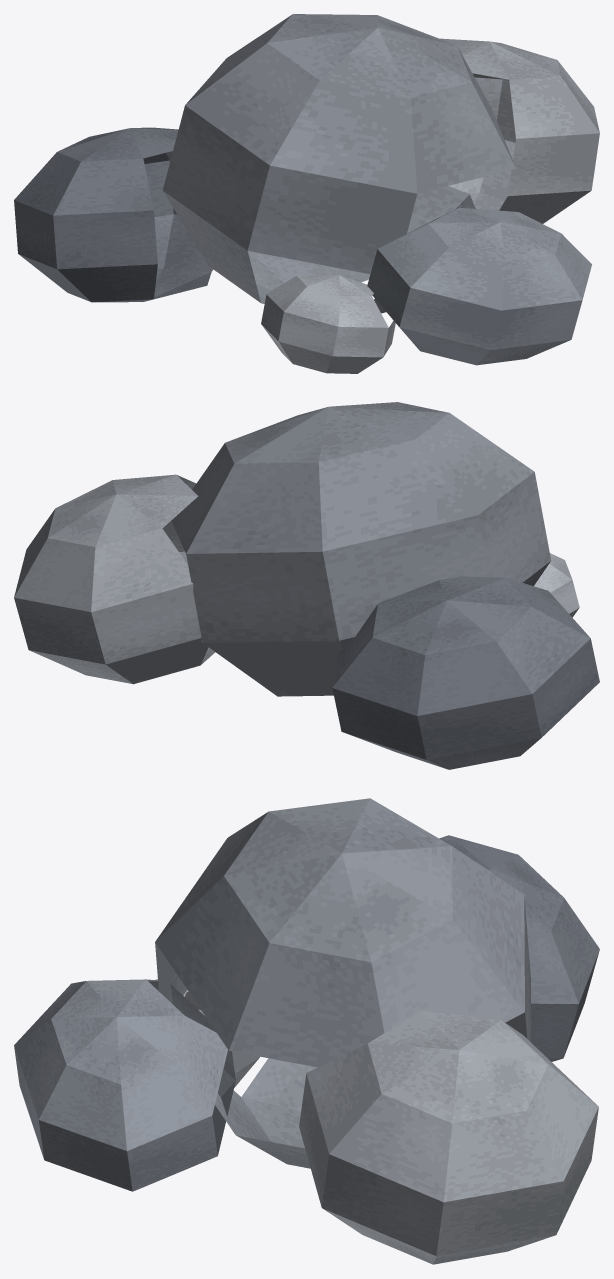
Rendered from prop_rock.glb.
3 views of the same model, one above another, from view 1: azimuth 30°, elevation 25°; view 2: azimuth 150°, elevation 25°; view 3: azimuth 270°, elevation 25° (orthographic). The views are drawn at different scales.
Visible parts, largest first — view 1: prop_rock; view 2: prop_rock; view 3: prop_rock.
Part boxes in pixels (bbox=[...]): prop_rock: bbox=[14, 14, 599, 373]; prop_rock: bbox=[14, 402, 599, 769]; prop_rock: bbox=[14, 798, 599, 1264].
Bounding box in the file's own units: 1.97 × 0.9012 × 1.55.
Materials: 1 (1 with a texture image).
